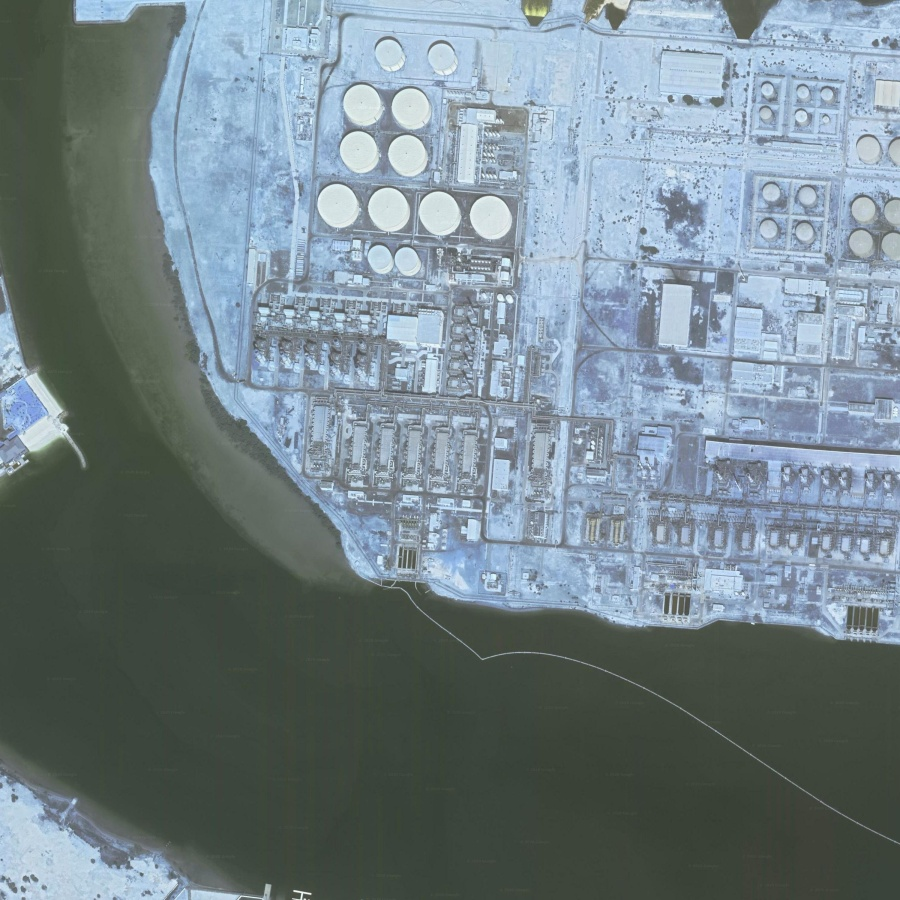PowerPlant: (245, 24, 545, 413)
